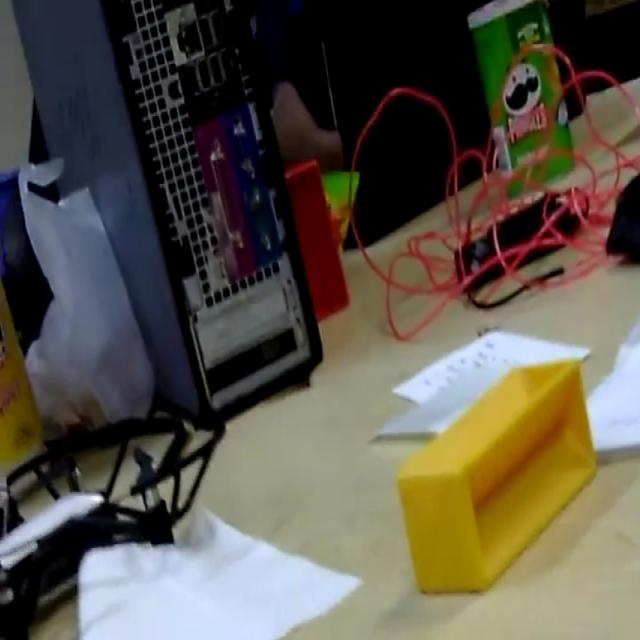red_block: (282, 156, 350, 321)
yellow_block: (396, 354, 597, 594)
